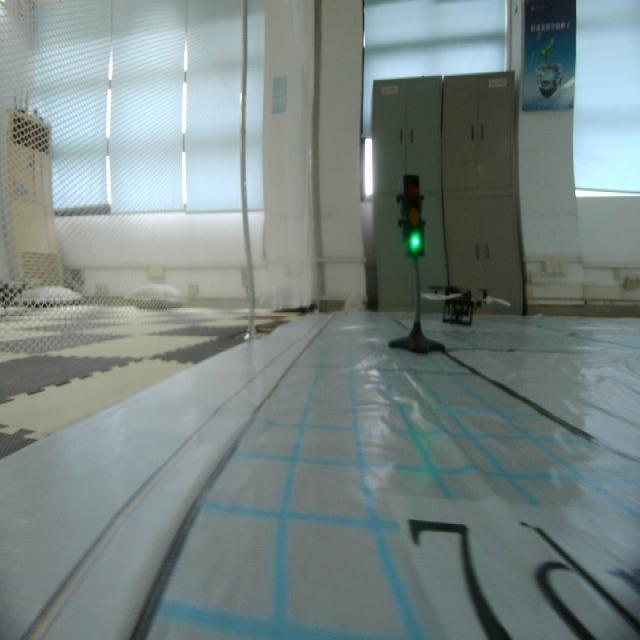green: (385, 165, 429, 260)
